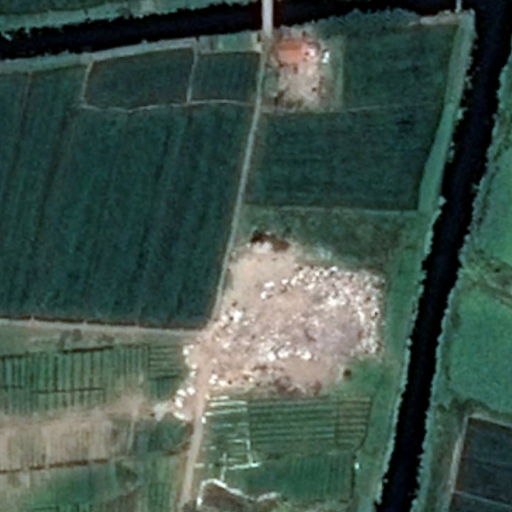msw: (209, 266, 384, 385)
